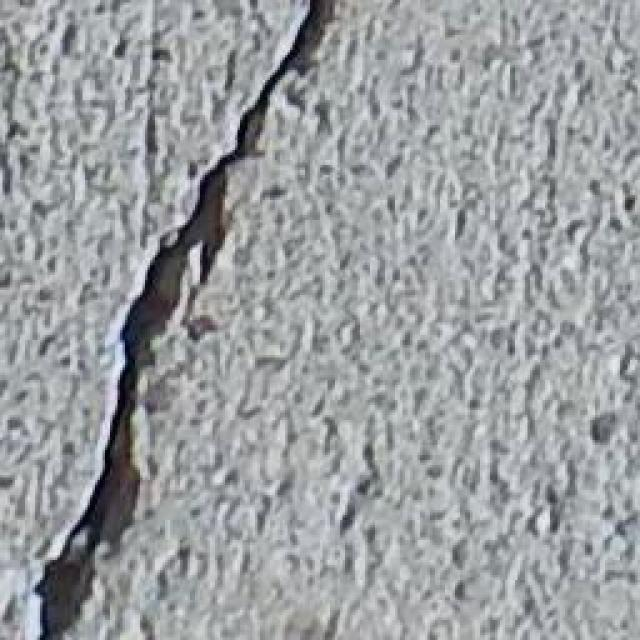concrete-crack: (32, 0, 333, 640)
